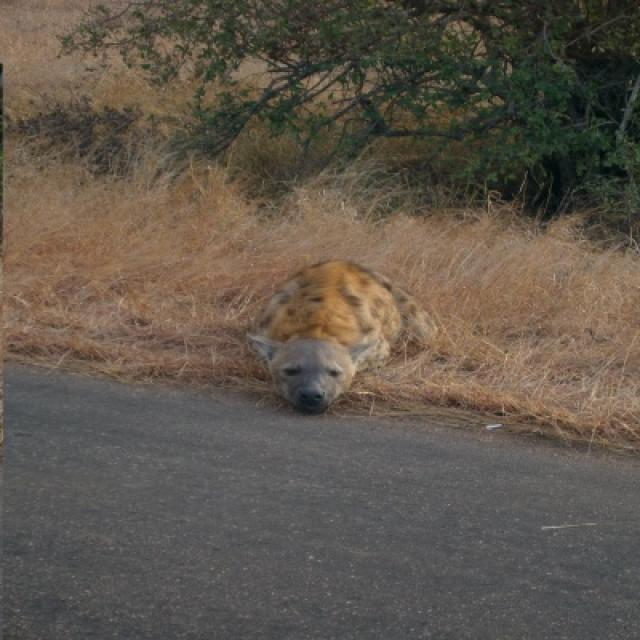hyena: (248, 262, 448, 418)
